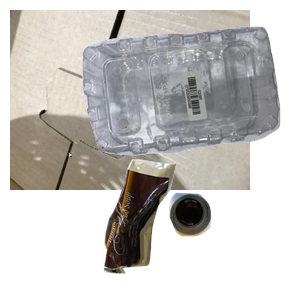cardboard: (10, 10, 250, 190)
glass: (166, 190, 300, 300)
plastic: (80, 24, 300, 172)
trash: (101, 157, 270, 300)
